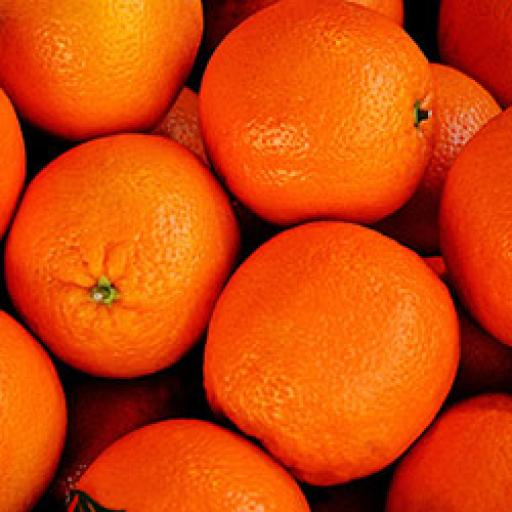orange: (203, 221, 459, 483), (6, 133, 238, 377), (199, 0, 432, 221), (0, 0, 201, 139)
